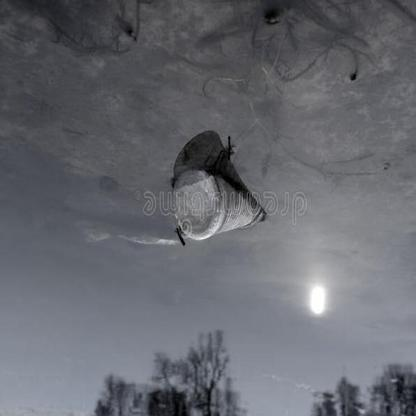plastic bottle: (172, 169, 273, 240)
